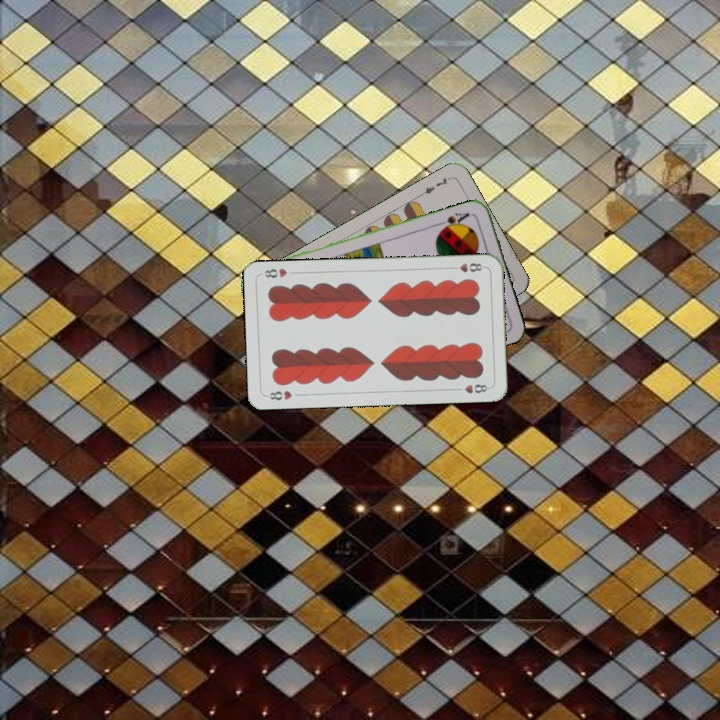E7: (416, 173, 454, 198)
H8: (447, 259, 487, 275), (262, 386, 294, 403)
SA: (435, 208, 475, 233)
